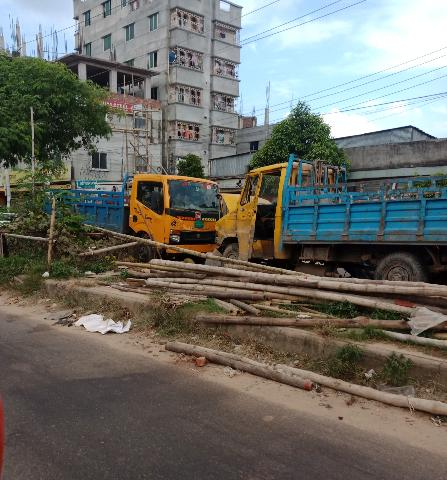truck: (220, 147, 447, 283), (41, 169, 226, 265)
